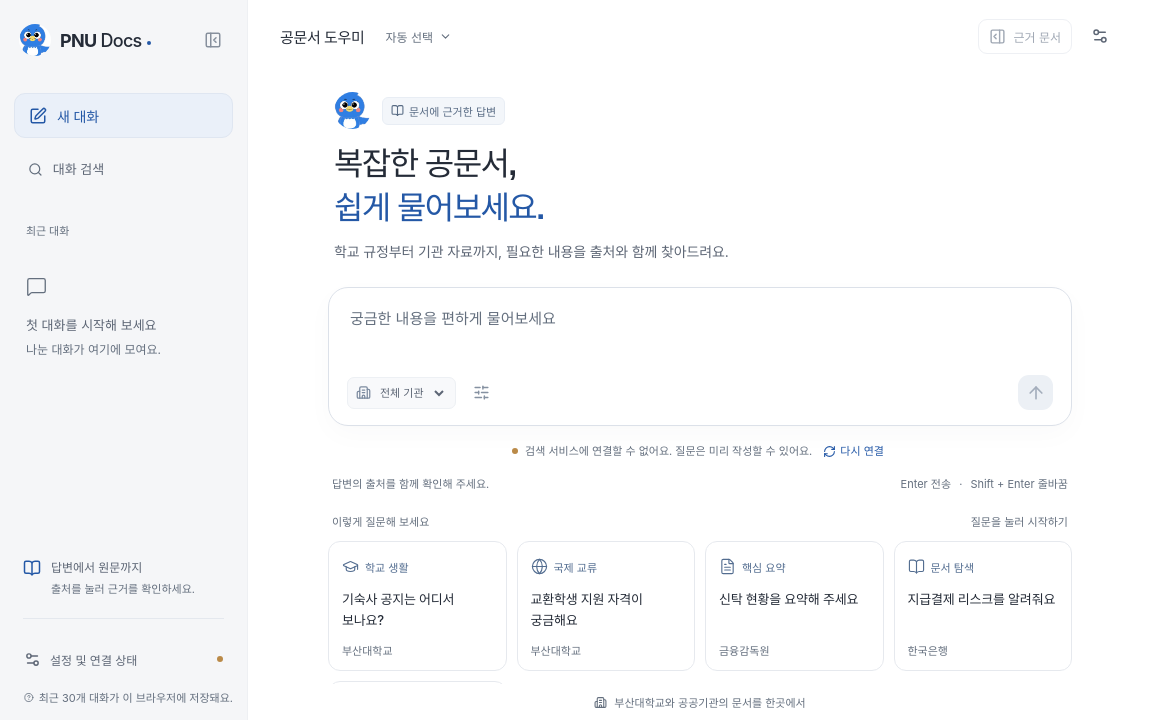
Test: handles capability fallback: not ready
This screenshot has width=1152, height=720.
Click the button named "설정 열기".
click(1100, 36)  # box [1080, 16, 1120, 56]
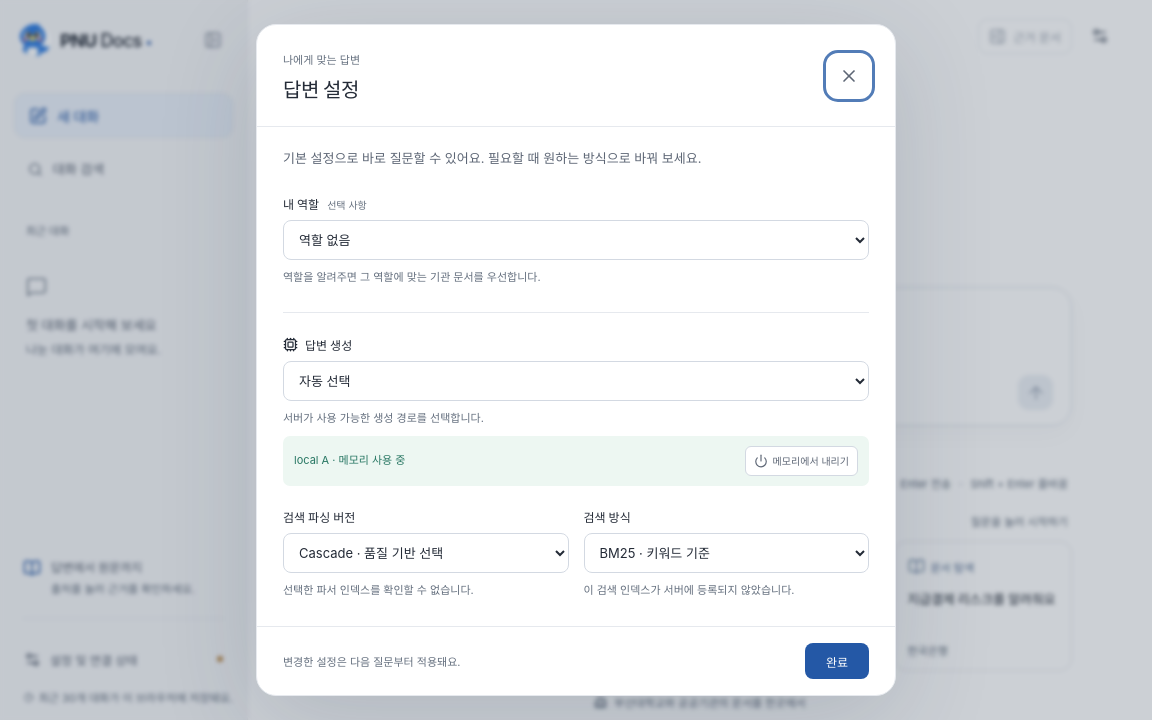
Expected: the dropdown labelled "검색 파싱 버전" shows "Cascade · 품질 기반 선택", [283, 533, 568, 573]
Expected: the dropdown labelled "검색 방식" shows "BM25 · 키워드 기준", [584, 533, 869, 573]
Expected: the dropdown named "답변 생성 제공자" shows "자동 선택", [283, 361, 869, 401]
